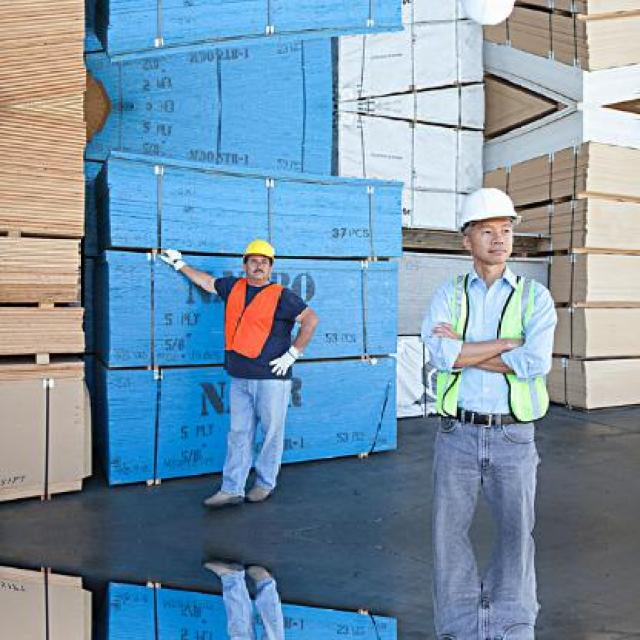helmet: (448, 179, 527, 270), (448, 0, 528, 34), (237, 229, 280, 285)
